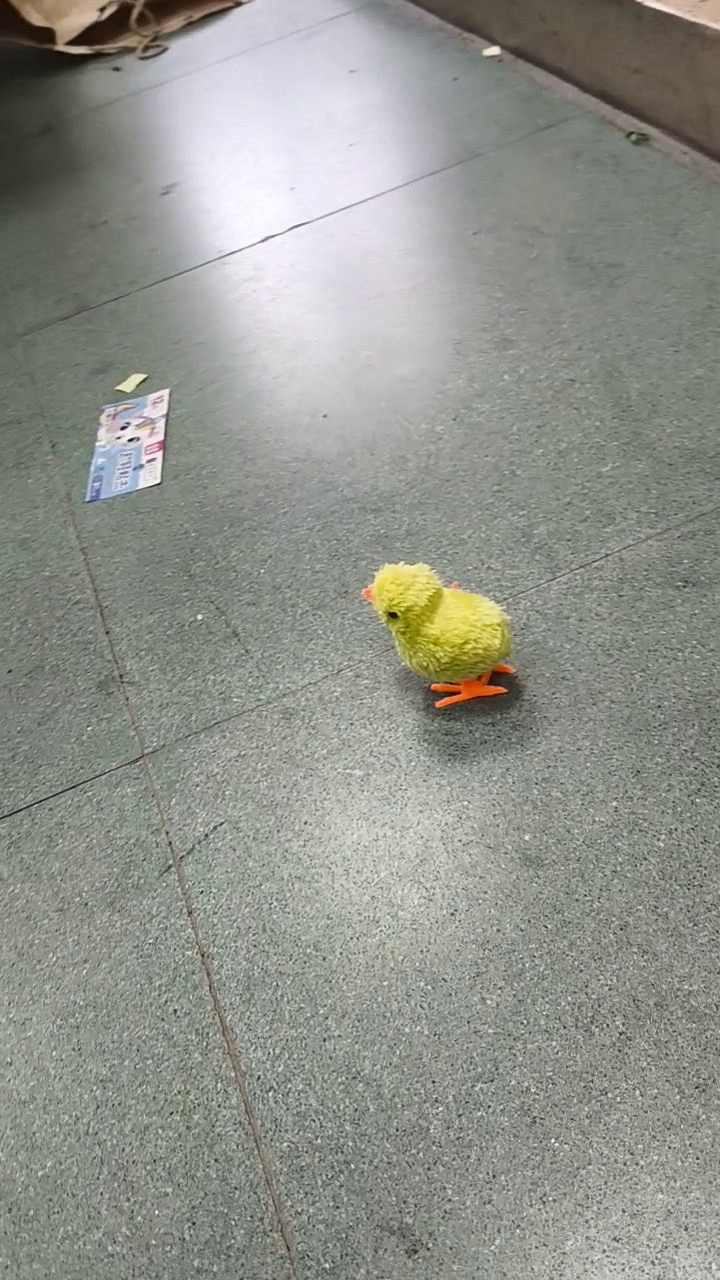yellow chicken: (356, 556, 519, 708)
